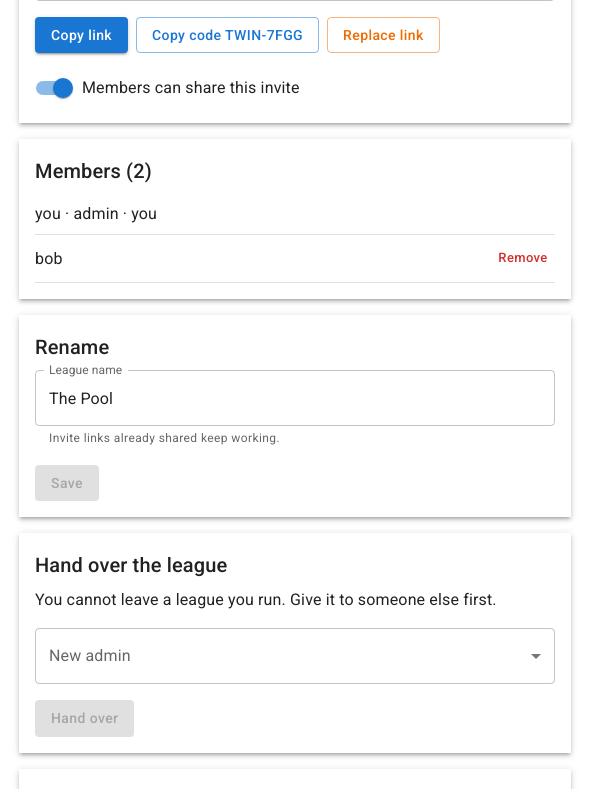
Test: renaming › saves it, says so, and reloads the league
(page scrolled)
Replace the text in the field labelled "League name" with "Thursday Tips": {"x": 295, "y": 398} [35,370,555,426]
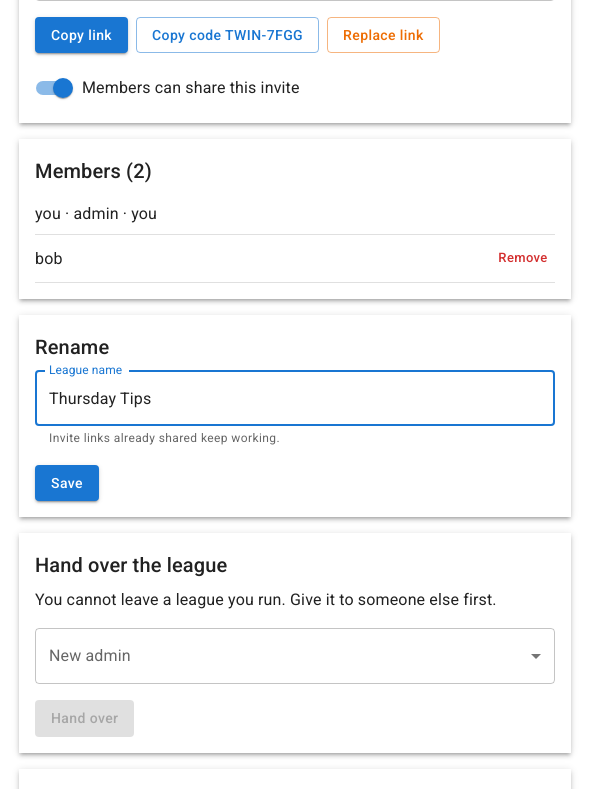
Click the button "Save": {"x": 67, "y": 483} [35,465,99,502]
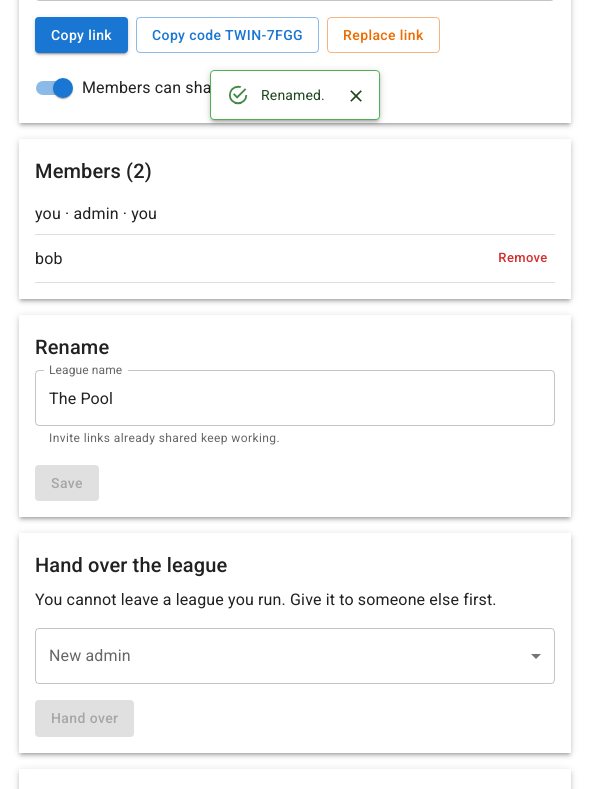
Result: the text "Renamed." is shown at [261,87,325,103]
